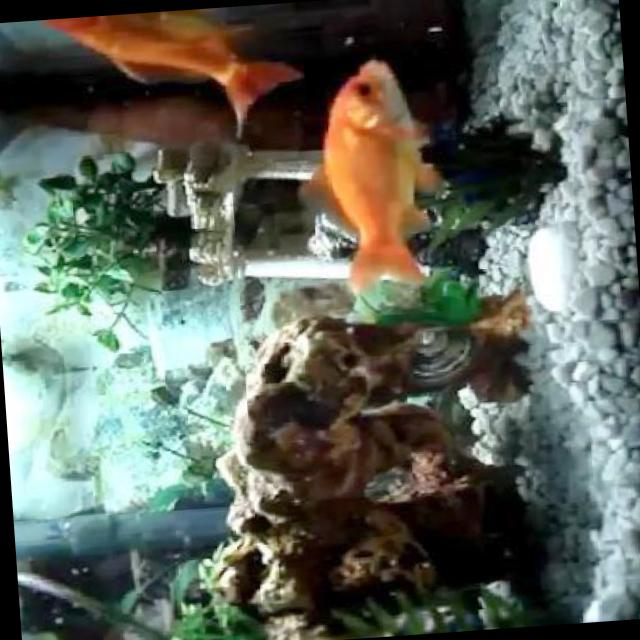GoldFish: (36, 2, 306, 150), (292, 54, 450, 295)
